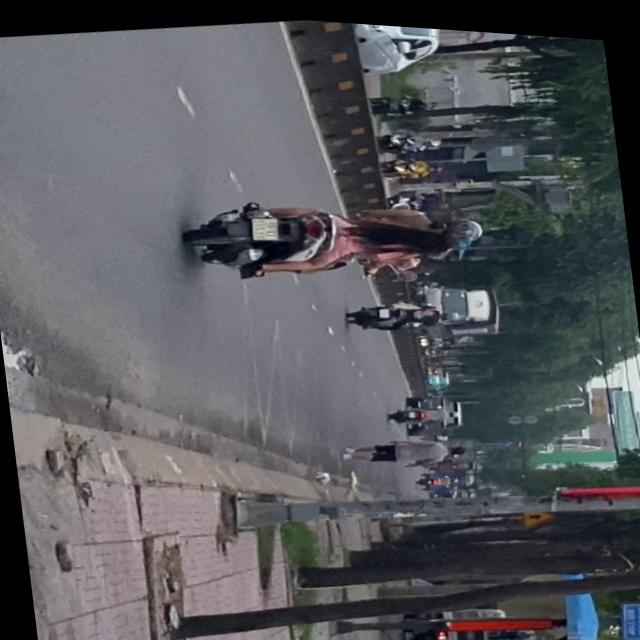helmet: (437, 206, 484, 239)
licenseplate: (179, 164, 491, 297)
motorcyclist: (402, 219, 455, 254)
nohelmet: (249, 212, 279, 238)
